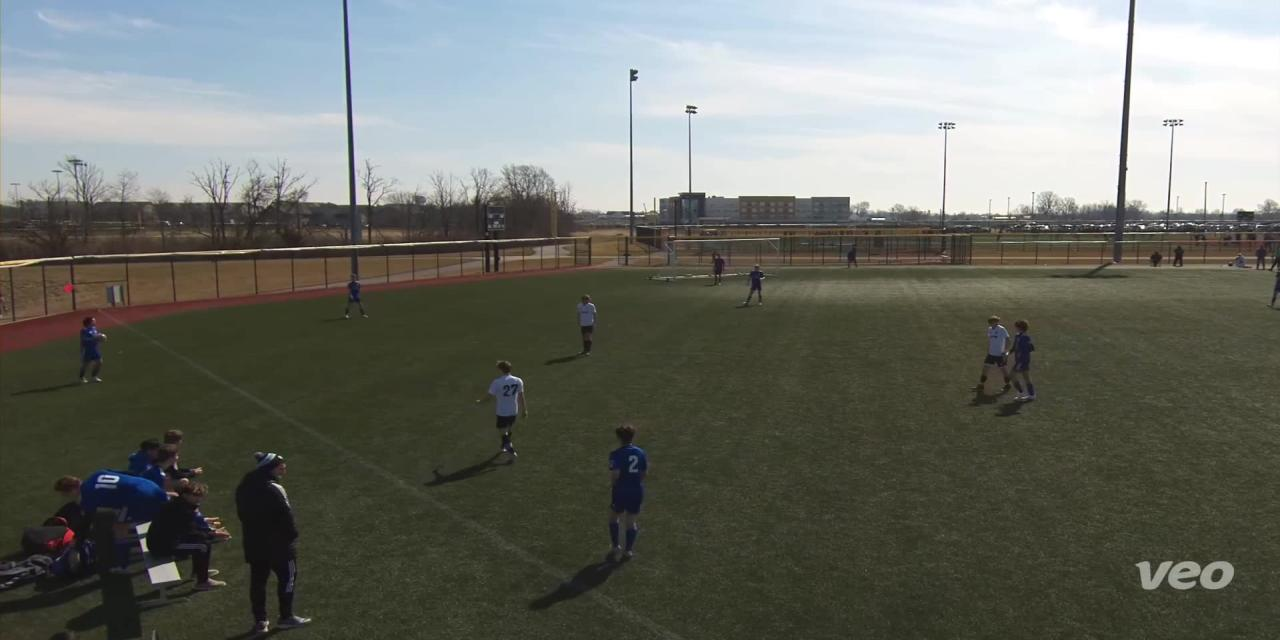goal: (646, 231, 804, 282)
